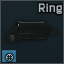FN P90 Ring Sight reflex sight: (0, 0, 64, 64)
